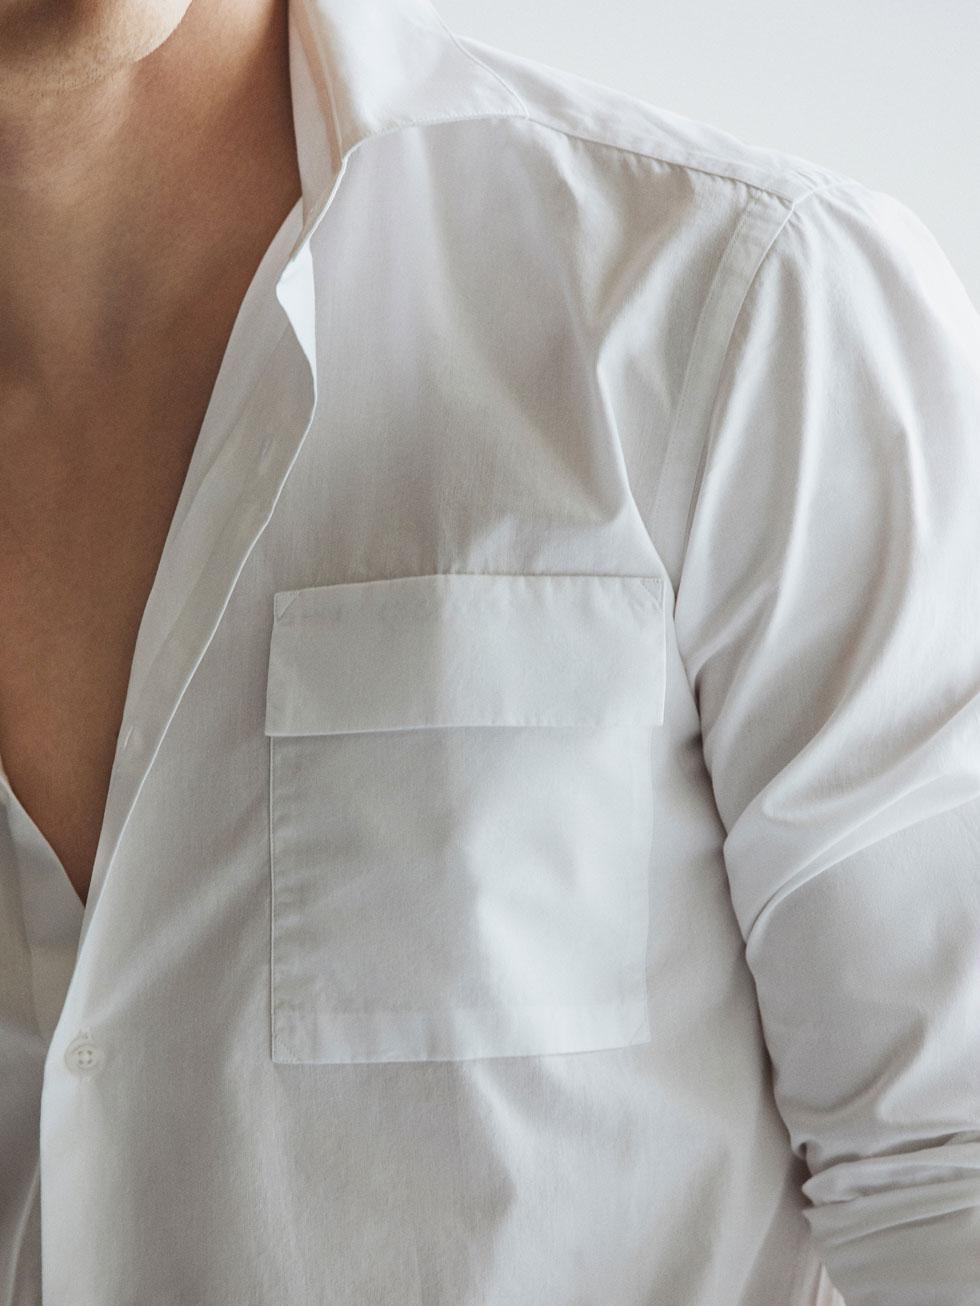teeshirt: (4, 3, 975, 1306)
